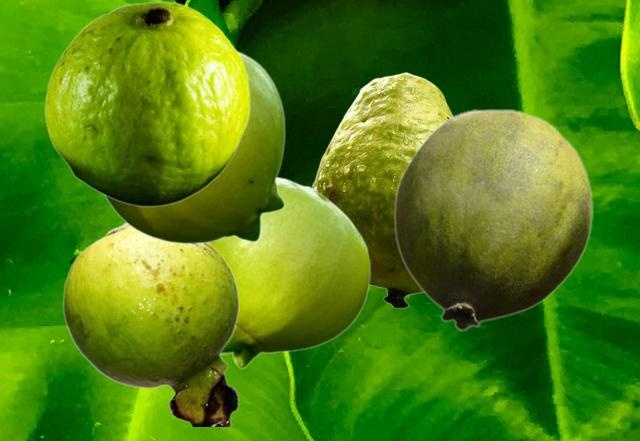guava: (393, 108, 593, 330), (44, 1, 249, 206), (62, 222, 239, 425), (103, 50, 285, 243), (311, 72, 453, 308), (213, 176, 370, 368)
